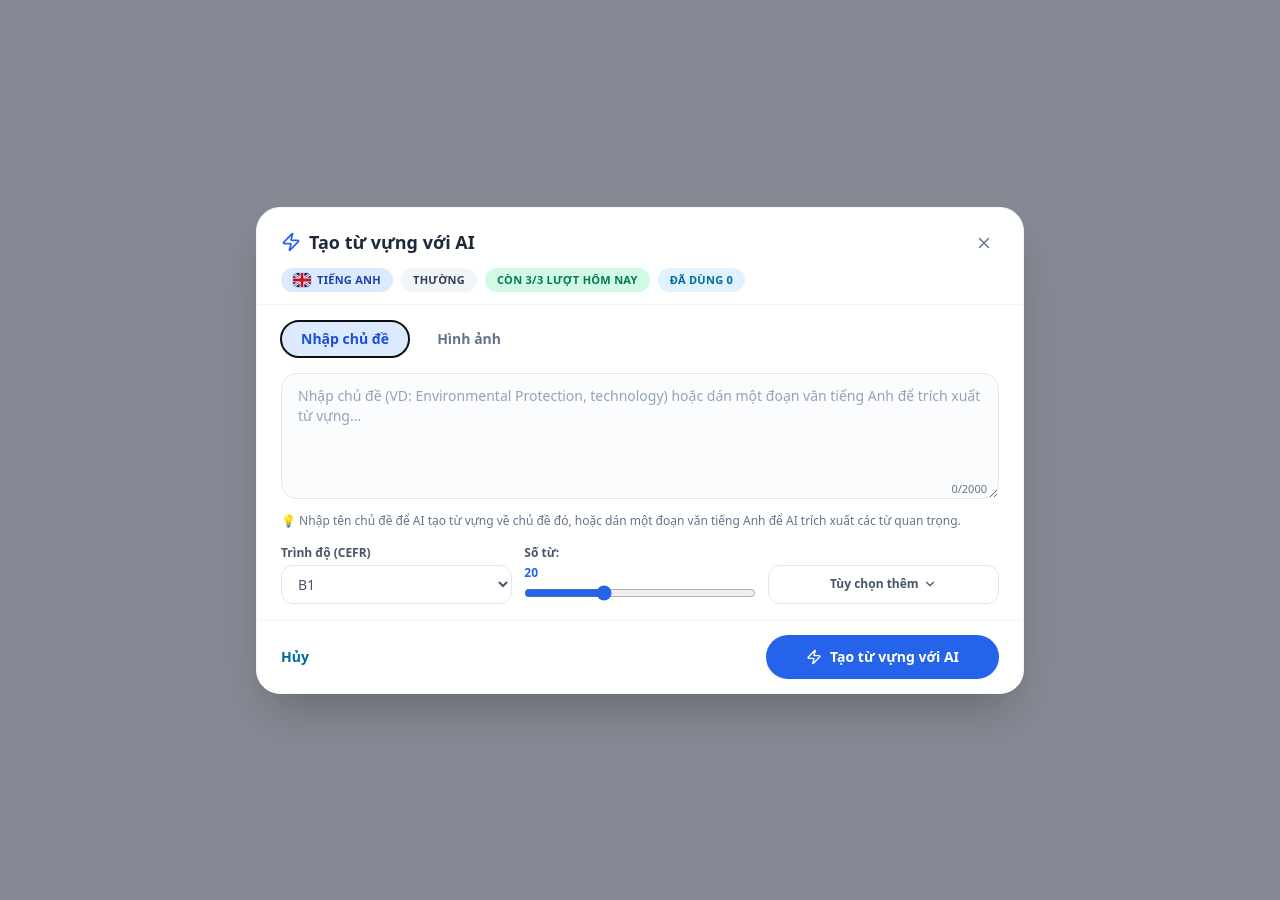
Test: GenerateVocabModal › 'add more' sends the current terms as exclusions and appends only new, uniquely keyed items
Expected: the text "Còn 3/3 lượt hôm nay" is shown, [485,268,650,292]
Replace the text in the text box with placeholder "Nhập chủ đề" with "Environment". click: point(640, 436)
box: [281,372,999,498]
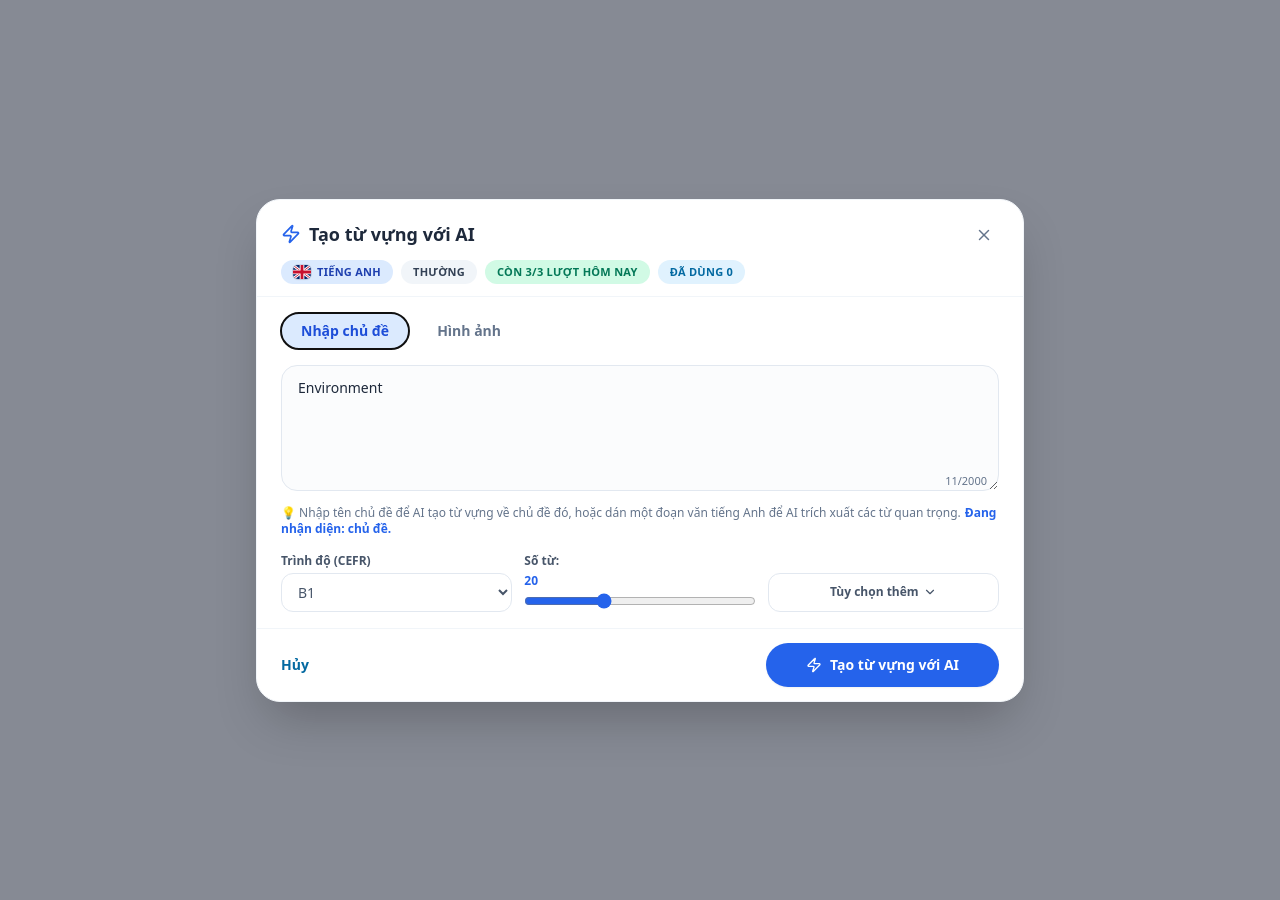
Click the button "Tạo từ vựng với AI". click: point(883, 664)
box: [766,642,999,686]
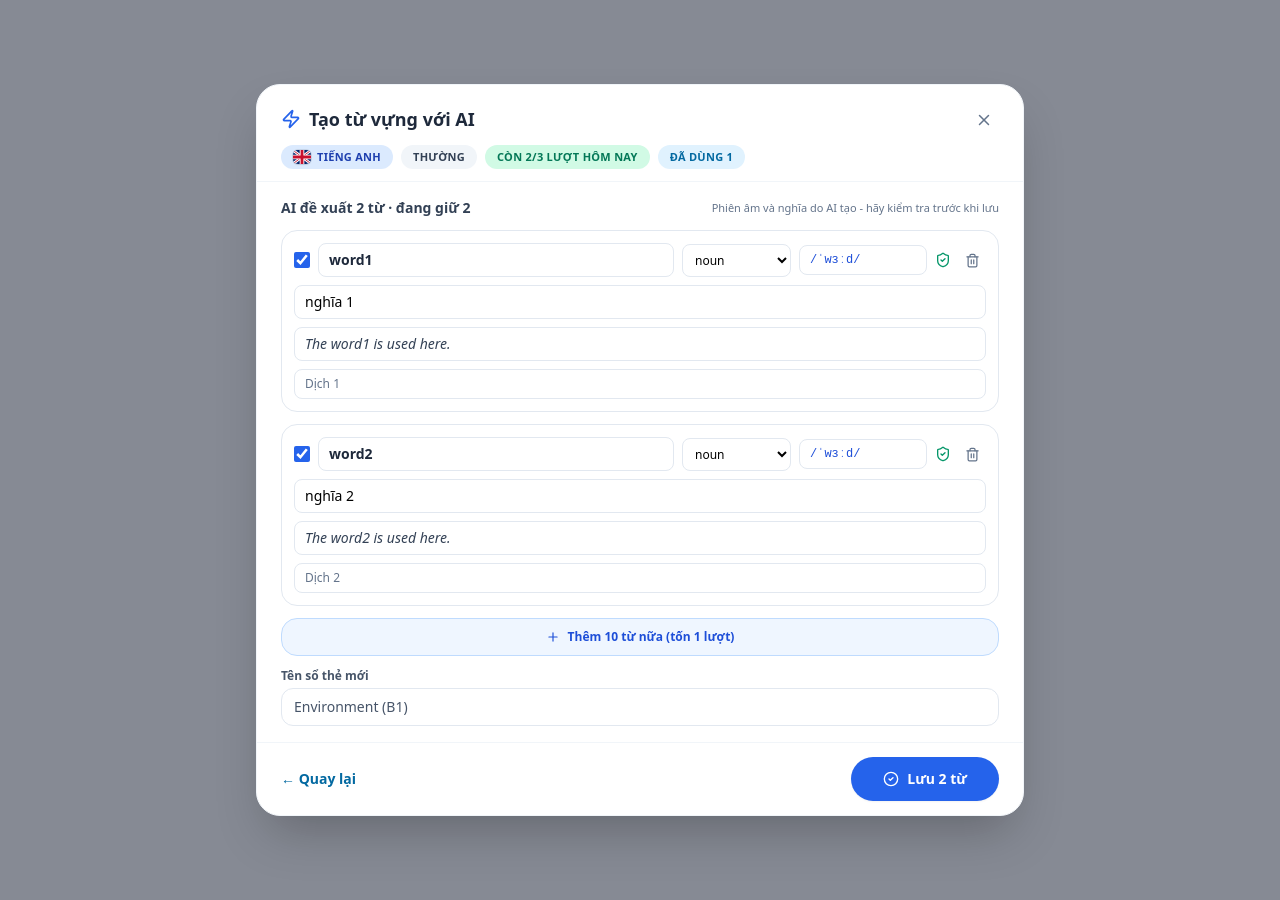
Expected: the 1st field showing "word1" is shown, [318,243,674,277]
Click the button "Thêm 10 từ nữa (tốn 1 lượt)". click: point(640, 637)
box: [281,618,999,656]
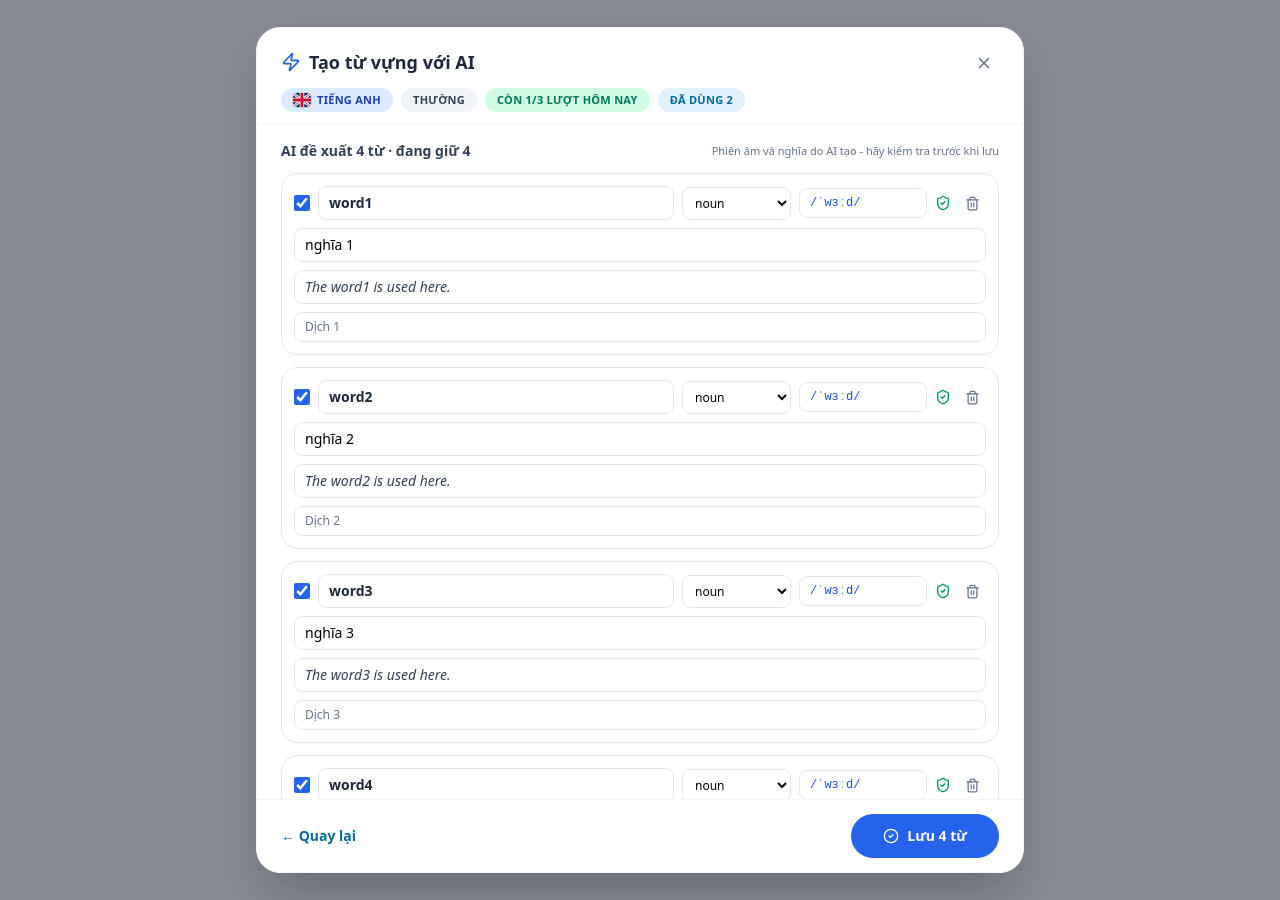
Expected: the 4th field showing "word4" is shown, [318,768,674,799]
Expected: the number of fields named "Từ vựng" is 4, [318,186,674,220]; [318,380,674,414]; [318,574,674,608]; [318,768,674,799]
Expected: the text "Còn 1/3 lượt hôm nay" is shown, [485,88,650,112]
